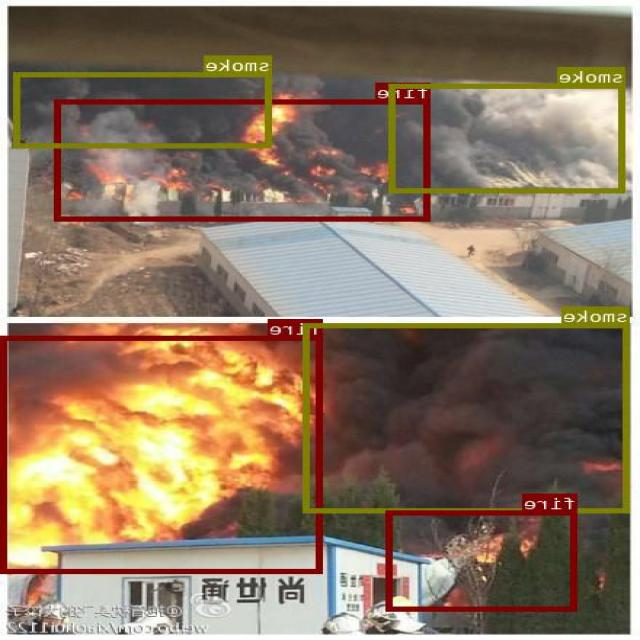fire: (3, 335, 323, 572), (56, 99, 431, 220), (387, 510, 578, 610)
smoke: (305, 322, 631, 512), (391, 84, 626, 192), (16, 71, 273, 147)
